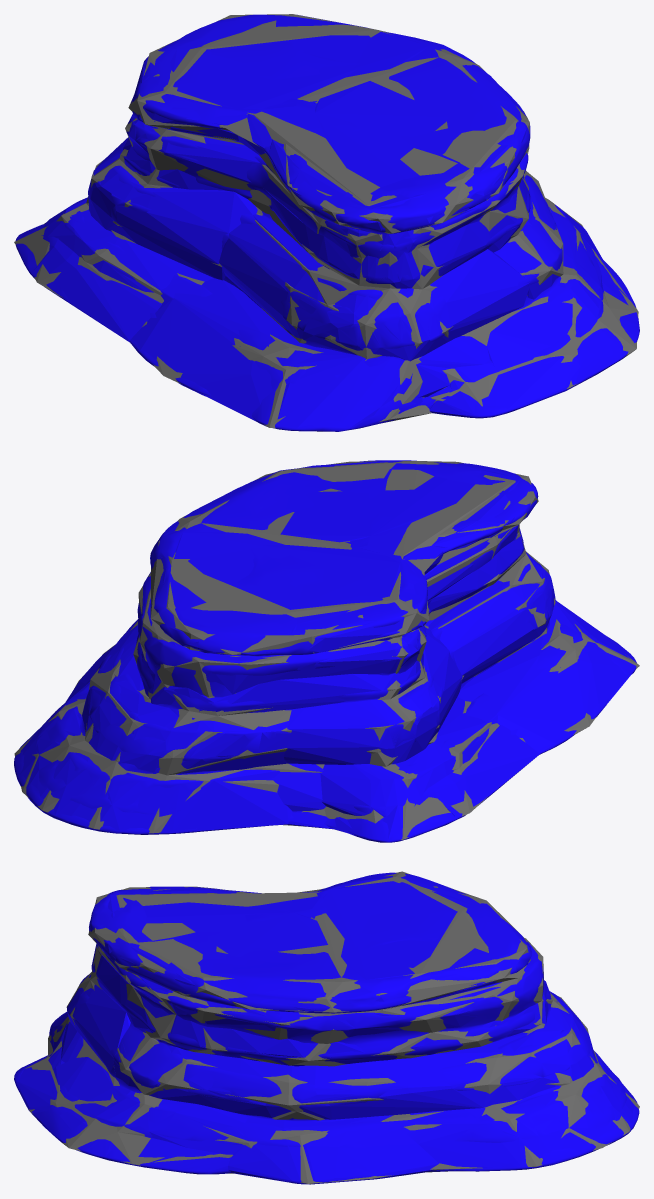
File: Cliff_big_10.fbx
3 views of the same model, one above another, from view 1: azimuth 30°, elevation 25°; view 2: azimuth 150°, elevation 25°; view 3: azimuth 270°, elevation 25° (orthographic). The views are drawn at different scales.
Visible parts, largest first — view 1: Cliff_big_10_LOD0, Cliff_big_10_COL, Cliff_big_10_COL_10, Cliff_big_10_COL_06, Cliff_big_10_COL_00, Cliff_big_10_COL_11, Cliff_big_10_COL_08, Cliff_big_10_COL_01, Cliff_big_10_COL_15, Cliff_big_10_COL_05, Cliff_big_10_COL_09, Cliff_big_10_COL_02 (+6 smaller); view 2: Cliff_big_10_LOD0, Cliff_big_10_COL, Cliff_big_10_COL_10, Cliff_big_10_COL_08, Cliff_big_10_COL_00, Cliff_big_10_COL_07, Cliff_big_10_COL_01, Cliff_big_10_COL_11, Cliff_big_10_COL_06, Cliff_big_10_COL_04, Cliff_big_10_COL_15, Cliff_big_10_COL_02 (+5 smaller); view 3: Cliff_big_10_LOD0, Cliff_big_10_COL, Cliff_big_10_COL_07, Cliff_big_10_COL_00, Cliff_big_10_COL_08, Cliff_big_10_COL_10, Cliff_big_10_COL_01, Cliff_big_10_COL_11, Cliff_big_10_COL_04, Cliff_big_10_COL_09, Cliff_big_10_COL_06, Cliff_big_10_COL_02 (+3 smaller).
Part boxes in pixels (<box>): Cliff_big_10_LOD0: <box>15,14,639,431</box>; Cliff_big_10_COL: <box>14,14,638,428</box>; Cliff_big_10_COL_10: <box>129,278,422,431</box>; Cliff_big_10_COL_06: <box>219,215,530,361</box>; Cliff_big_10_COL_00: <box>269,32,526,231</box>; Cliff_big_10_COL_11: <box>44,197,603,371</box>; Cliff_big_10_COL_08: <box>88,137,602,280</box>; Cliff_big_10_COL_01: <box>133,35,370,139</box>; Cliff_big_10_COL_15: <box>31,239,499,389</box>; Cliff_big_10_COL_05: <box>271,197,490,288</box>; Cliff_big_10_COL_09: <box>429,253,637,418</box>; Cliff_big_10_COL_02: <box>127,114,525,182</box>; Cliff_big_10_LOD0: <box>14,460,636,842</box>; Cliff_big_10_COL: <box>14,461,639,839</box>; Cliff_big_10_COL_10: <box>18,600,635,832</box>; Cliff_big_10_COL_08: <box>65,627,462,764</box>; Cliff_big_10_COL_00: <box>154,460,530,559</box>; Cliff_big_10_COL_07: <box>82,625,290,773</box>; Cliff_big_10_COL_01: <box>151,541,426,654</box>; Cliff_big_10_COL_11: <box>320,697,489,816</box>; Cliff_big_10_COL_06: <box>429,555,555,683</box>; Cliff_big_10_COL_04: <box>141,651,423,713</box>; Cliff_big_10_COL_15: <box>429,725,540,817</box>; Cliff_big_10_COL_02: <box>137,572,426,694</box>; Cliff_big_10_LOD0: <box>14,872,639,1184</box>; Cliff_big_10_COL: <box>25,871,639,1184</box>; Cliff_big_10_COL_07: <box>113,992,595,1119</box>; Cliff_big_10_COL_00: <box>89,887,414,1010</box>; Cliff_big_10_COL_08: <box>228,1115,438,1184</box>; Cliff_big_10_COL_10: <box>51,1012,635,1170</box>; Cliff_big_10_COL_01: <box>311,876,531,1001</box>; Cliff_big_10_COL_11: <box>53,1057,248,1154</box>; Cliff_big_10_COL_04: <box>125,980,548,1066</box>; Cliff_big_10_COL_09: <box>15,1056,230,1174</box>; Cliff_big_10_COL_06: <box>67,974,130,1071</box>; Cliff_big_10_COL_02: <box>167,967,535,1038</box>.
Size of what is drawn, in the model's own units: 2590 by 3536 by 999.
